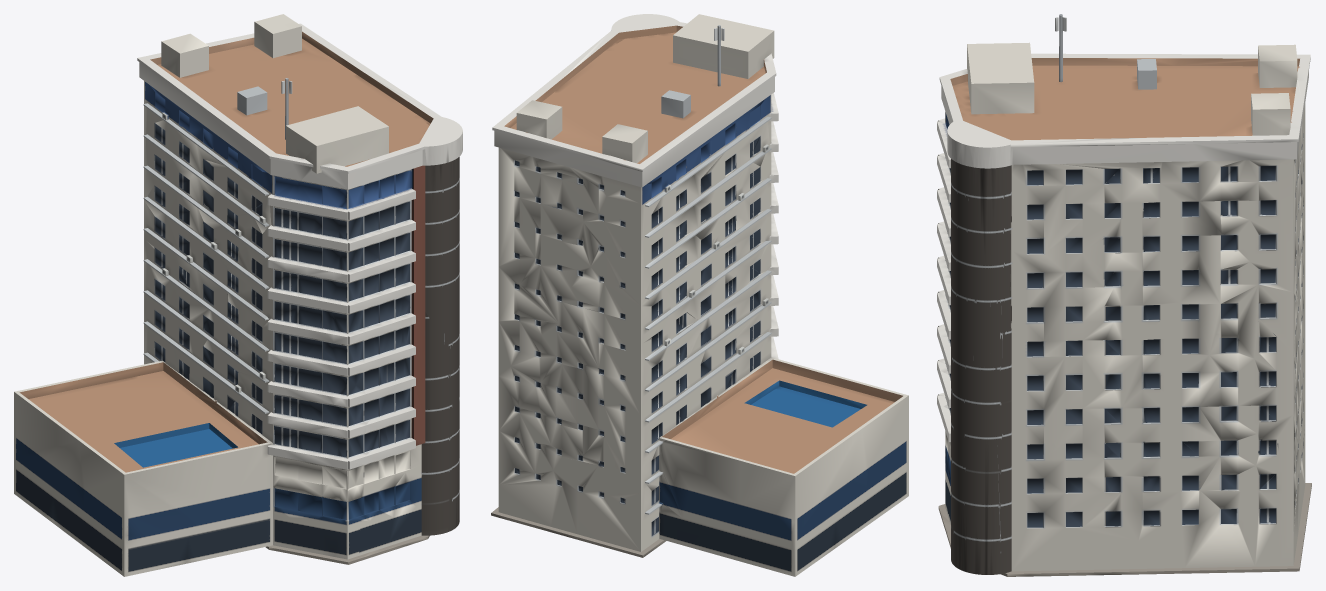
Rendered from khach_san_buu_dien.mid.glb.
3 renders of one model, left to right at view 1: azimuth 30°, elevation 25°; view 2: azimuth 150°, elevation 25°; view 3: azimuth 270°, elevation 25°, orthographic. The views are drawn at different scales.
Parts seen in each view (by area): view 1: khach_san_buu_dien; view 2: khach_san_buu_dien; view 3: khach_san_buu_dien.
Part boxes in pixels (x1,y1,x2,y2): khach_san_buu_dien: [14, 14, 462, 576]; khach_san_buu_dien: [491, 14, 908, 576]; khach_san_buu_dien: [937, 14, 1311, 576].
Bounding box in the file's own units: 38.08 × 51.6 × 35.71.
Materials: 2 (2 with a texture image).
